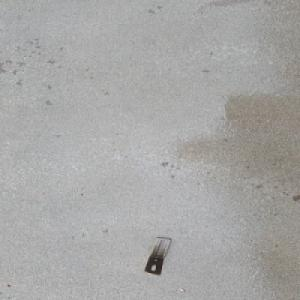MetalPart: (142, 236, 172, 276)
